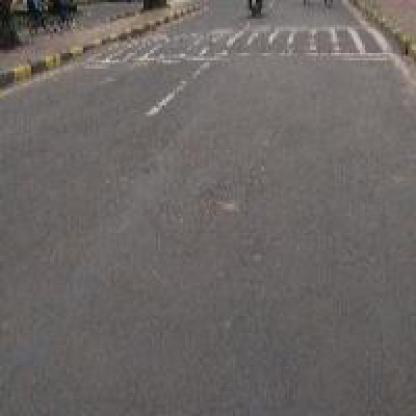Speed Bump: (83, 23, 404, 62)
